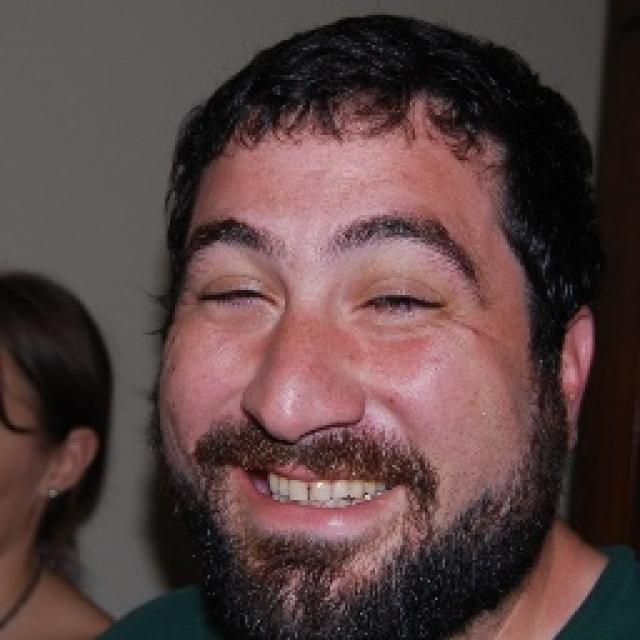earlobe: (557, 417, 580, 455), (40, 475, 64, 497)
eye: (357, 283, 446, 318), (196, 282, 281, 310)
nose: (242, 414, 362, 466)
wholeear: (560, 308, 595, 451), (41, 424, 99, 498)
